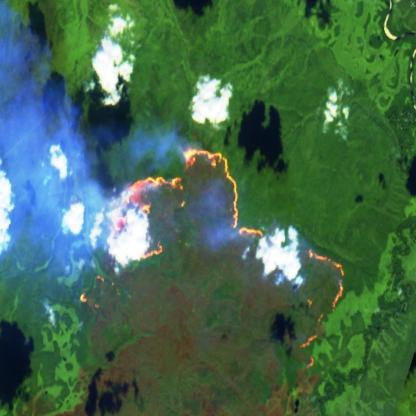fire: (77, 145, 345, 370)
